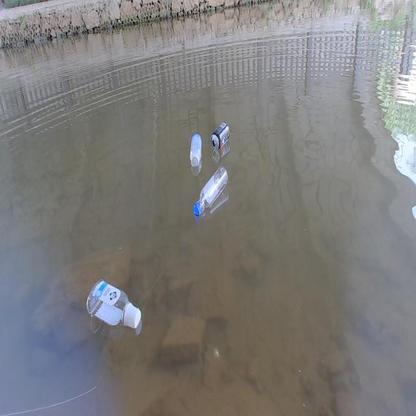can: (210, 121, 231, 149)
plastic bottle: (86, 279, 141, 328), (193, 166, 229, 216), (190, 134, 202, 166)
